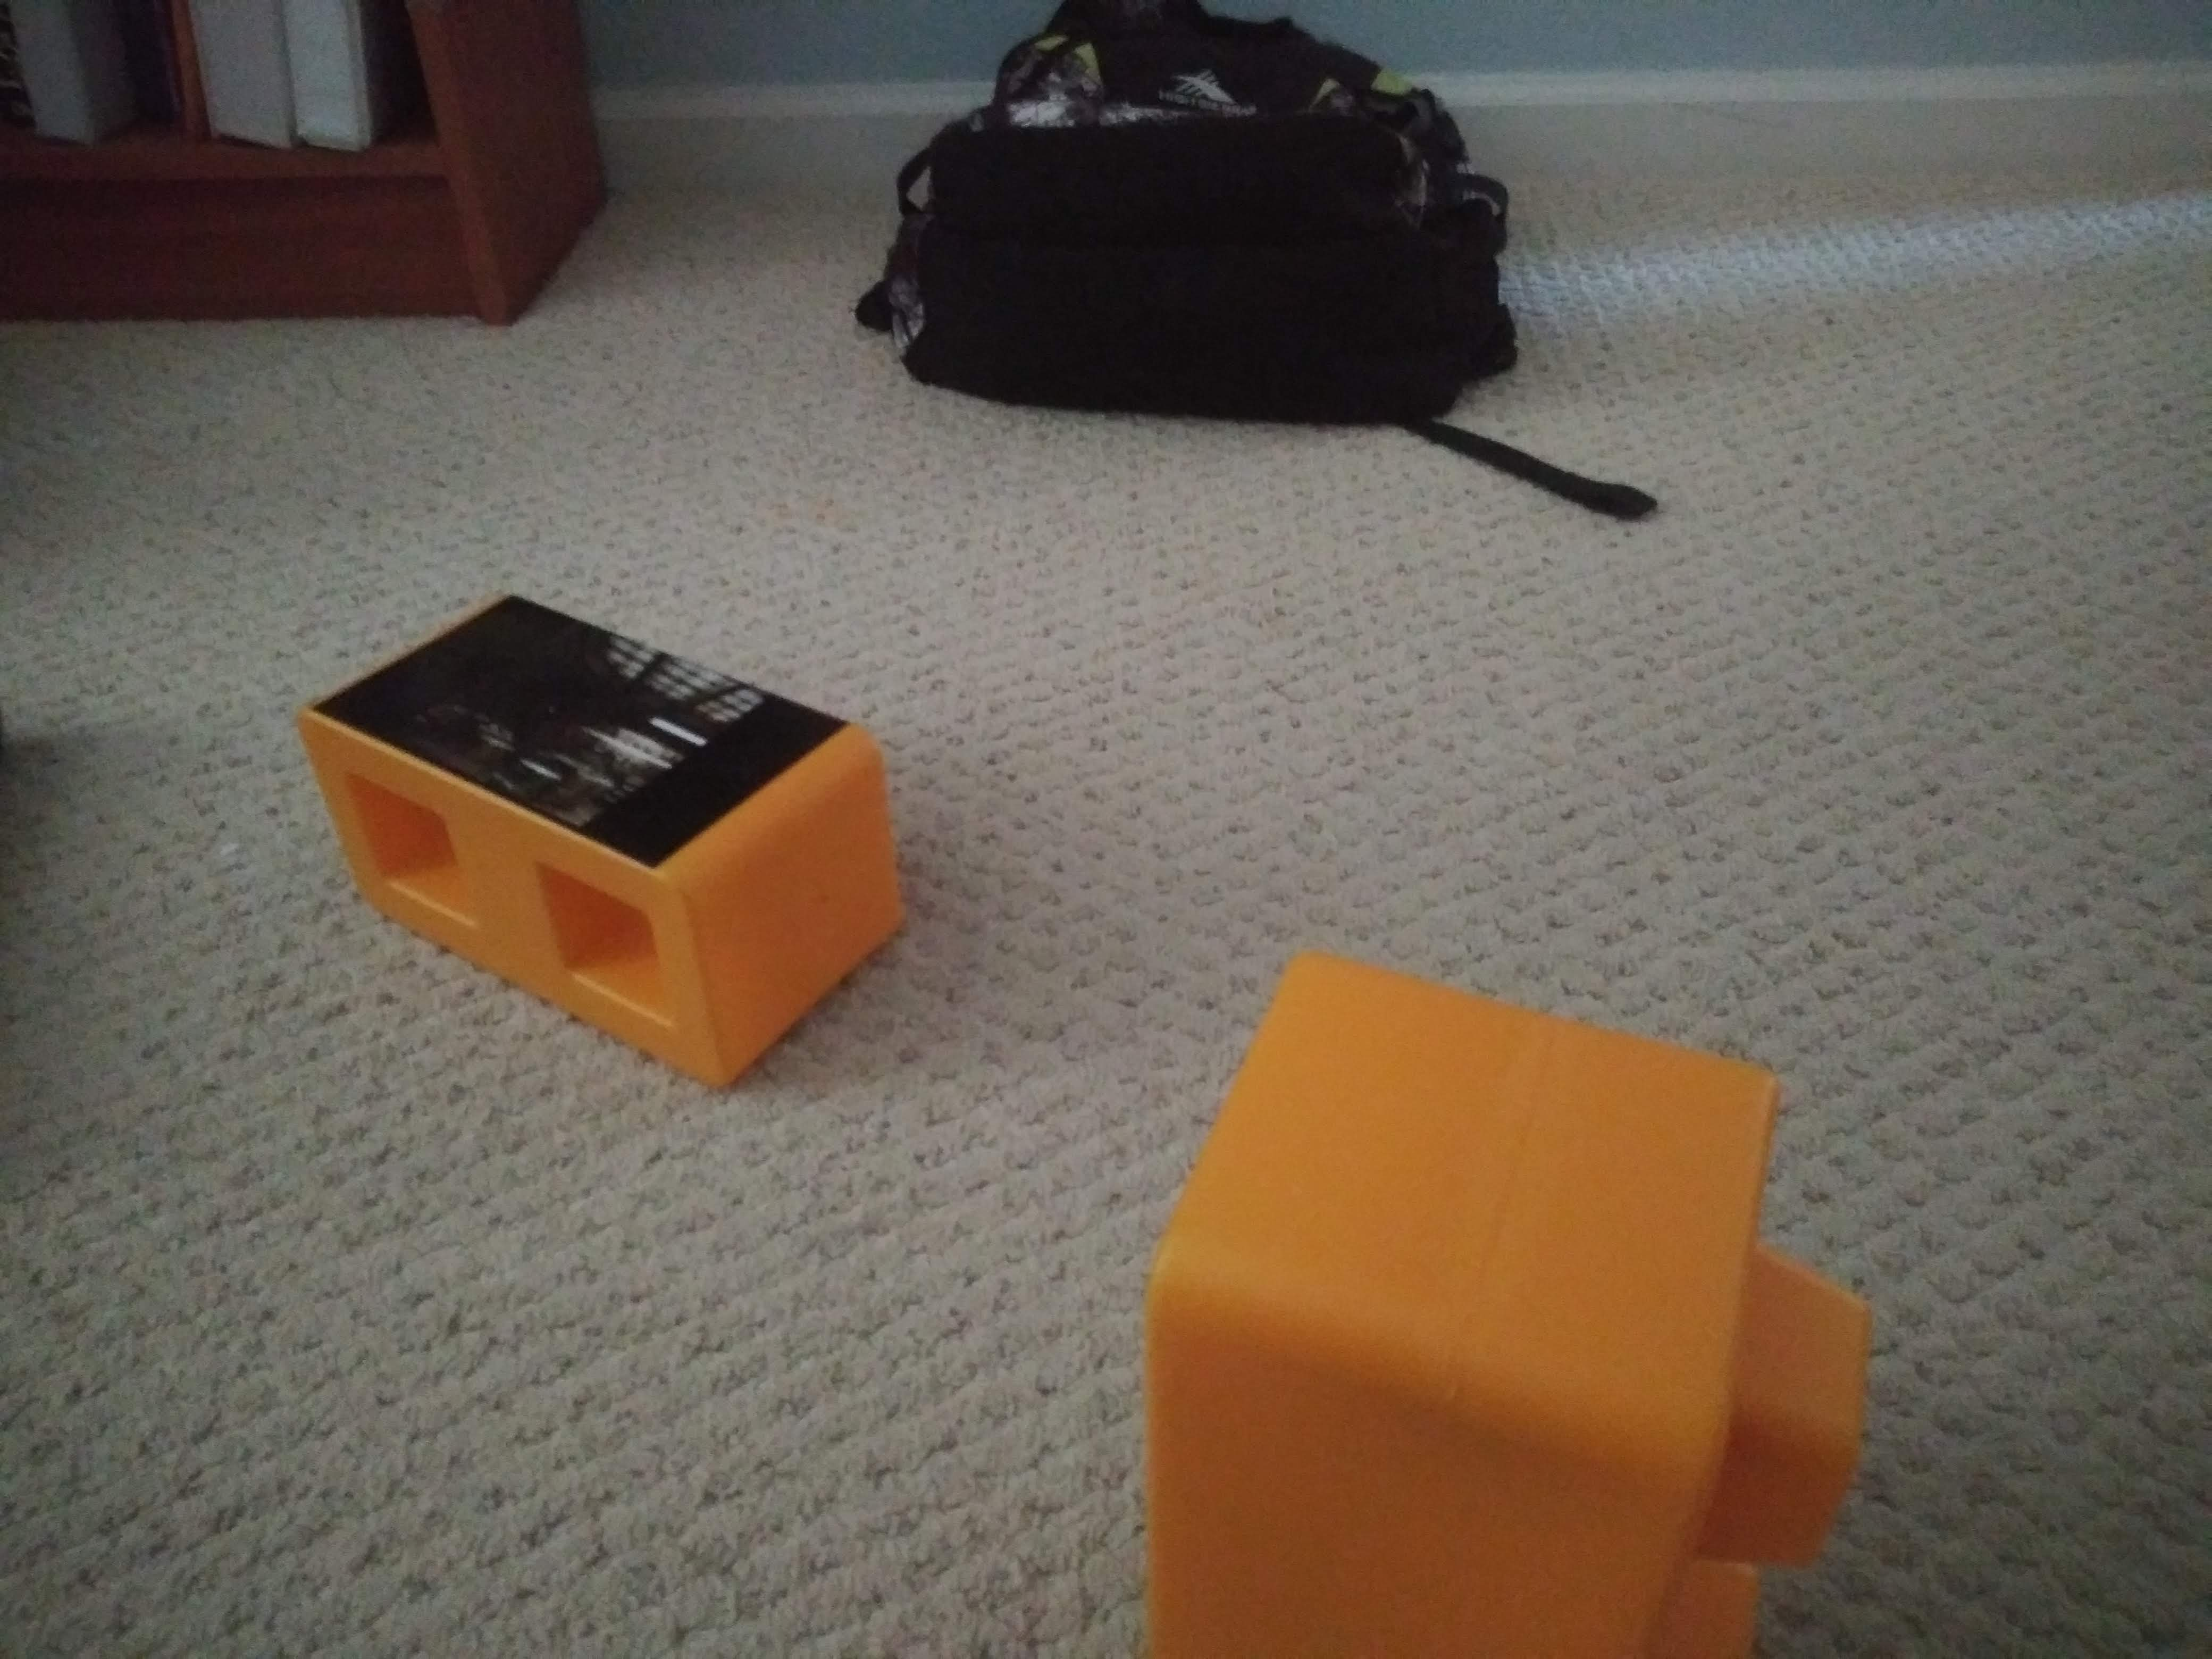skystone: (287, 615, 894, 1021)
stone: (1158, 990, 1827, 1659)
